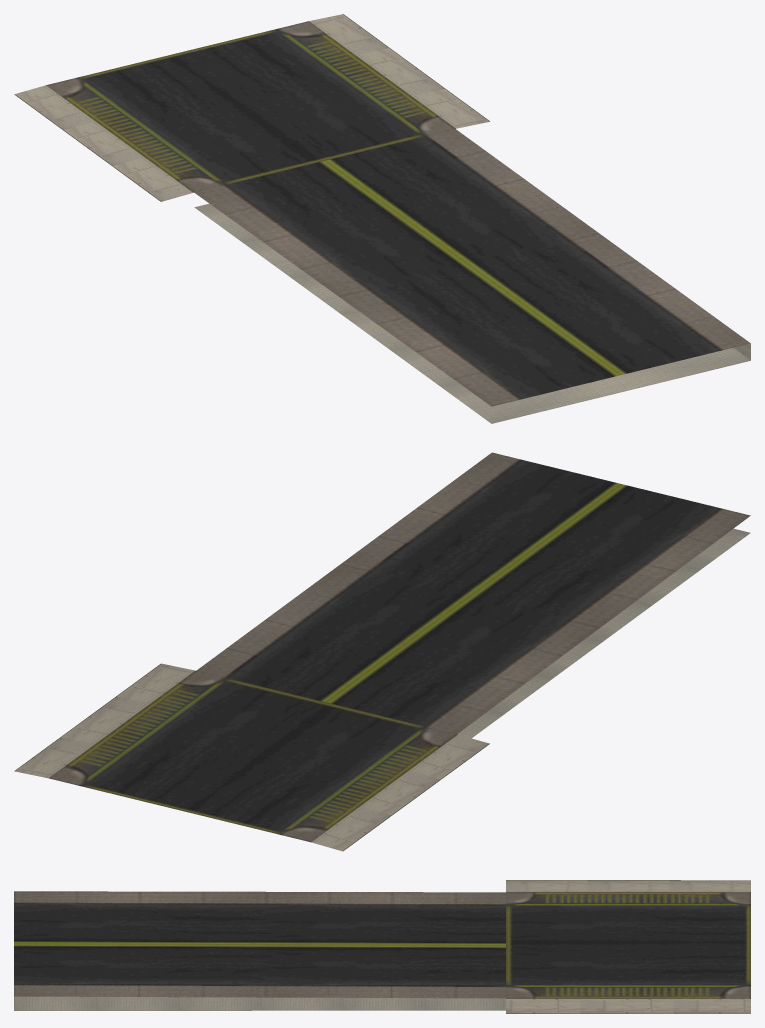
The model's file is 0000ROAD03.glb.
3 views of the same model, one above another, from view 1: azimuth 30°, elevation 25°; view 2: azimuth 150°, elevation 25°; view 3: azimuth 270°, elevation 25° (orthographic). The views are drawn at different scales.
Visible parts, largest first — view 1: 0000ROAD03; view 2: 0000ROAD03; view 3: 0000ROAD03.
Boxes of the visible parts, box(x1,y1,x2,y2) form: 0000ROAD03: box(14, 14, 750, 423); 0000ROAD03: box(14, 452, 750, 851); 0000ROAD03: box(14, 880, 750, 1013).
Bounding box in the file's own units: 2010 × 101 × 4680.
Materials: 4 (4 with a texture image).
